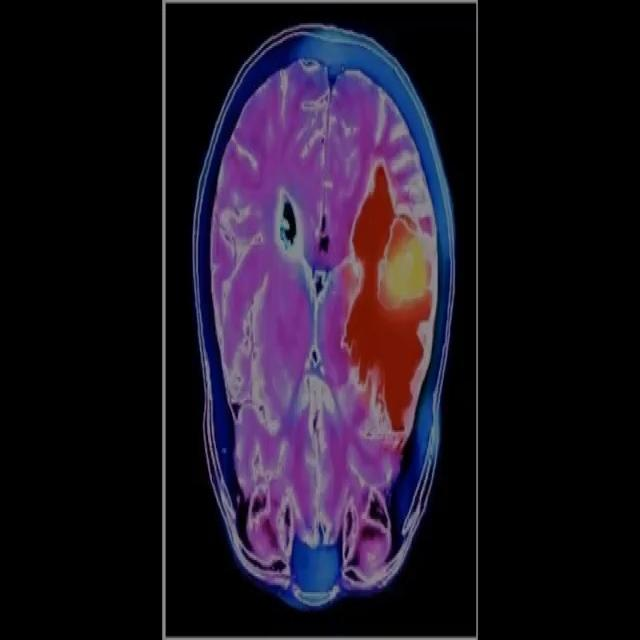tumor: (376, 204, 446, 347)
